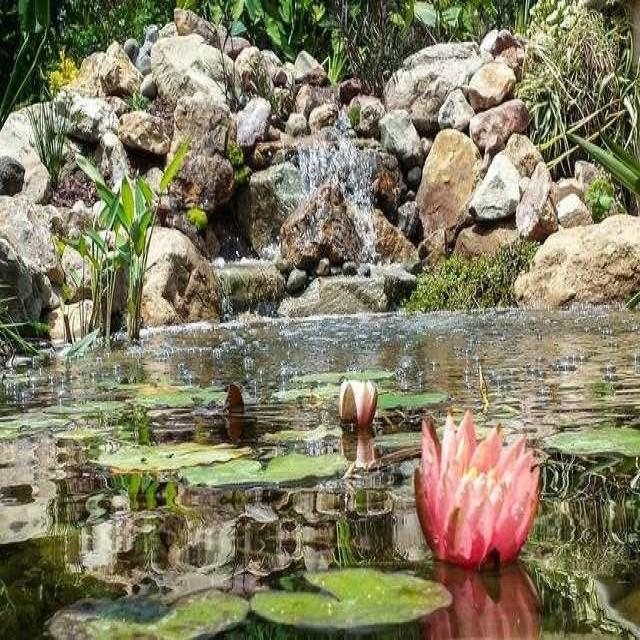Ponds: (1, 7, 640, 633)
